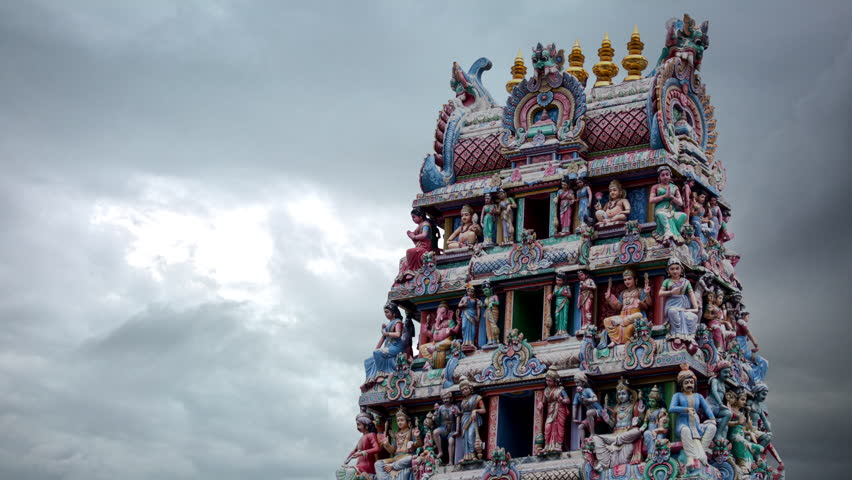Hindu Temple: (385, 17, 767, 480)
